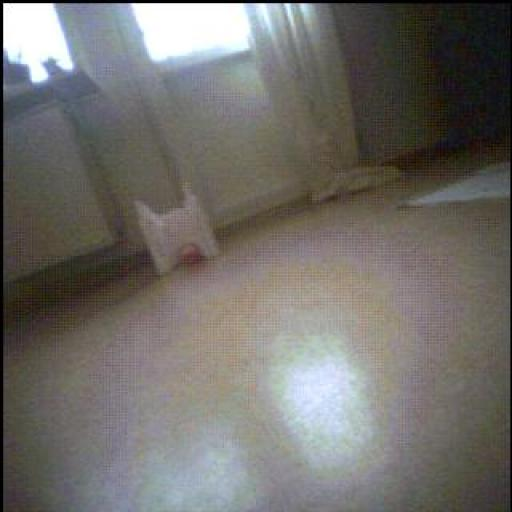Basket: (180, 244, 206, 267)
